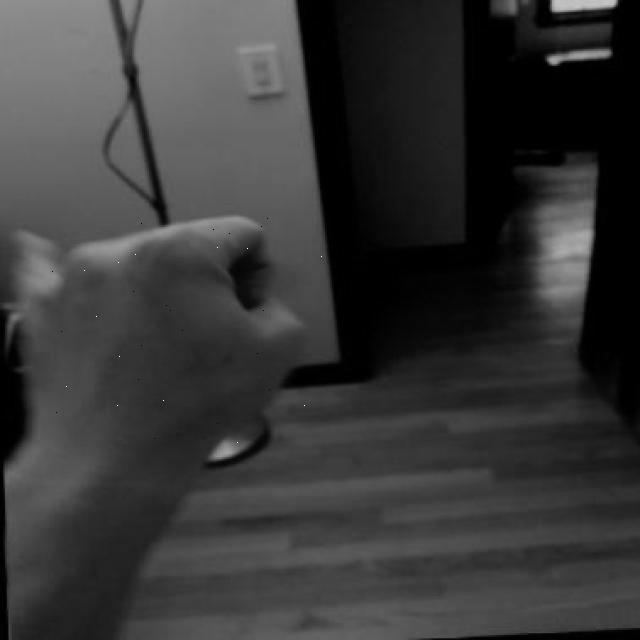J: (0, 200, 334, 460)
